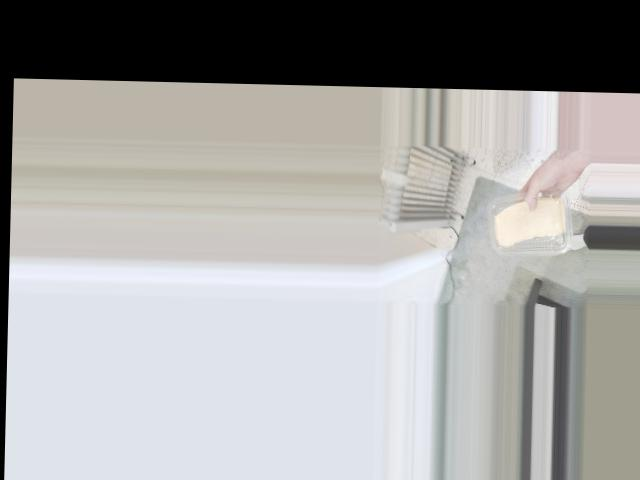cheese: (484, 189, 572, 255)
